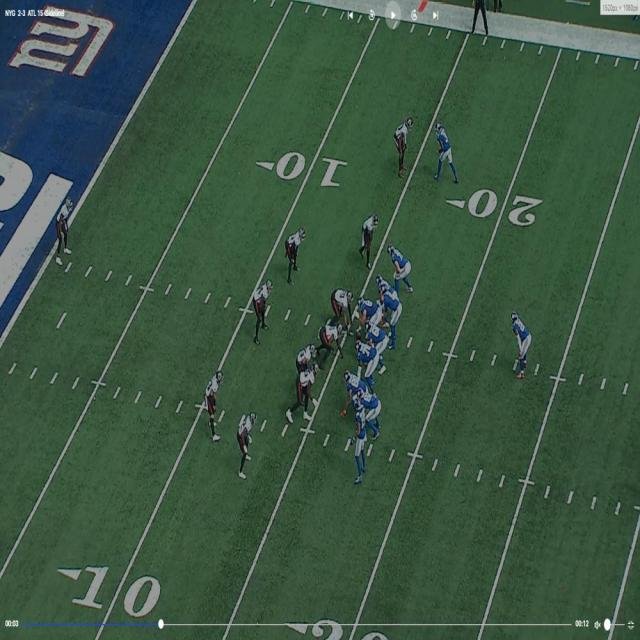center: (356, 297, 376, 335)
db: (238, 413, 257, 479), (204, 373, 222, 433), (394, 118, 410, 177), (54, 202, 71, 256)
lb: (292, 362, 322, 421), (252, 277, 272, 336), (357, 212, 380, 262), (286, 226, 305, 272)
qb: (379, 284, 402, 337)
skill: (353, 399, 369, 489), (511, 310, 531, 378), (437, 122, 460, 181), (359, 384, 380, 436), (345, 372, 362, 418), (393, 245, 410, 288)
